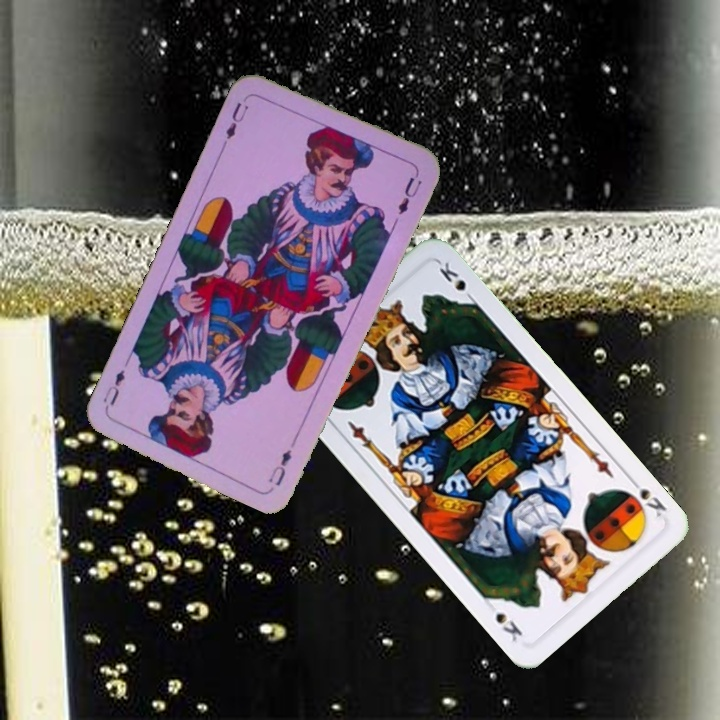EU: (221, 93, 251, 142), (264, 445, 295, 489)
SK: (619, 473, 669, 521)
